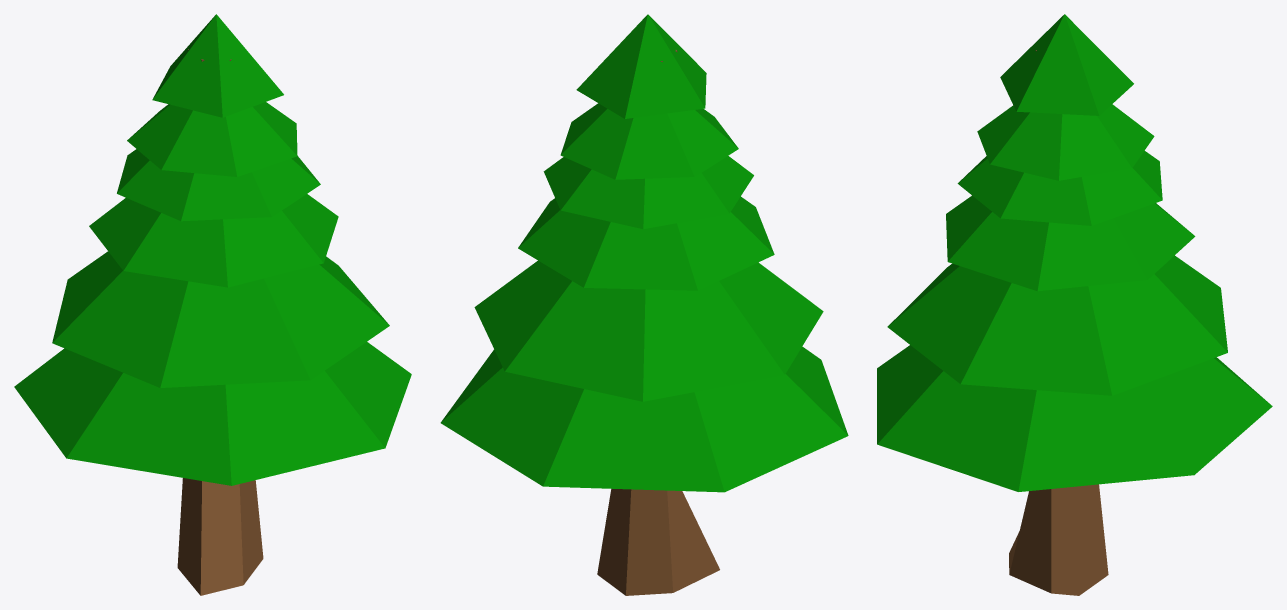
File: Tree_2.fbx
3 views of the same model, side by side, from view 1: azimuth 30°, elevation 25°; view 2: azimuth 150°, elevation 25°; view 3: azimuth 270°, elevation 25° (orthographic). The views are drawn at different scales.
Visible parts, largest first — view 1: Cone, Cone.001, Cone.002, Cone.005, Cone.003, Cylinder, Cone.004; view 2: Cone, Cone.001, Cone.002, Cylinder, Cone.005, Cone.003, Cone.004; view 3: Cone, Cone.001, Cone.002, Cone.005, Cone.003, Cylinder, Cone.004.
Boxes of the visible parts, x1,y1,x2,y2 form: Cone: [14, 342, 411, 485]; Cone.001: [52, 251, 389, 387]; Cone.002: [89, 194, 338, 287]; Cone.005: [127, 102, 297, 176]; Cone.003: [117, 149, 320, 221]; Cylinder: [177, 49, 263, 595]; Cone.004: [152, 14, 283, 117]; Cone: [440, 346, 848, 492]; Cone.001: [474, 260, 823, 401]; Cone.002: [518, 196, 774, 290]; Cylinder: [597, 50, 719, 595]; Cone.005: [560, 103, 738, 179]; Cone.003: [543, 156, 753, 229]; Cone.004: [576, 14, 706, 118]; Cone: [877, 345, 1272, 491]; Cone.001: [887, 255, 1227, 395]; Cone.002: [946, 195, 1195, 291]; Cone.005: [977, 104, 1154, 180]; Cone.003: [957, 150, 1162, 225]; Cylinder: [1009, 50, 1108, 595]; Cone.004: [1000, 14, 1133, 115].
Bounding box in the file's own units: 1427 × 2177 × 1392.
